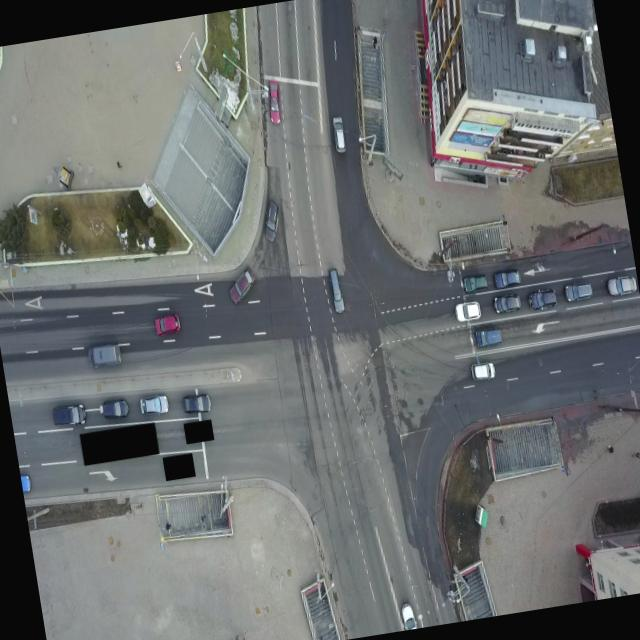car: (50, 398, 88, 432), (85, 339, 124, 372), (226, 264, 258, 304), (263, 74, 285, 126), (326, 264, 346, 315), (260, 200, 283, 243), (179, 389, 213, 418), (605, 272, 639, 300), (138, 389, 170, 418), (99, 394, 131, 422), (526, 286, 558, 313), (152, 310, 182, 338), (471, 324, 504, 349), (492, 290, 522, 316), (452, 299, 482, 325), (563, 279, 594, 303), (492, 266, 522, 290), (330, 115, 348, 154), (469, 358, 496, 382), (461, 272, 488, 294)
